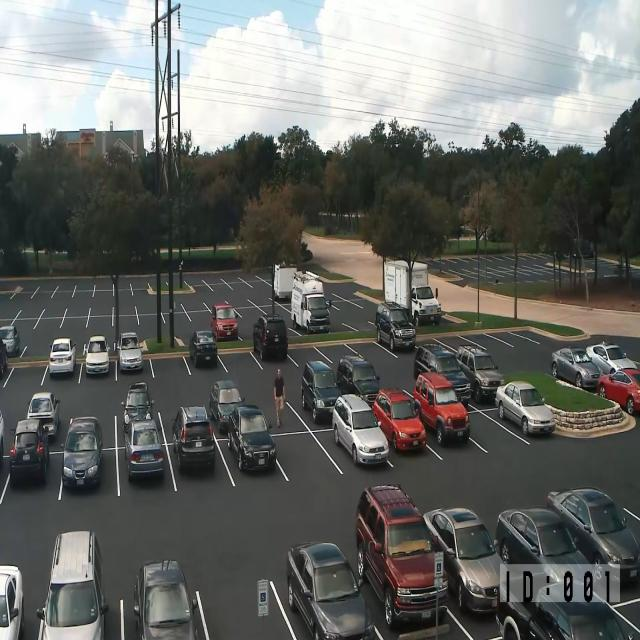space-empty: (198, 564, 298, 640), (276, 429, 331, 484), (239, 386, 293, 434), (158, 394, 210, 439), (468, 408, 515, 456), (67, 407, 117, 449), (221, 339, 259, 380), (342, 363, 382, 401), (152, 344, 189, 383), (287, 338, 326, 374), (6, 357, 46, 390), (618, 593, 639, 637), (354, 342, 393, 365), (323, 300, 346, 336), (263, 303, 291, 326), (112, 290, 136, 316), (101, 326, 124, 353), (316, 342, 356, 357), (90, 291, 113, 315), (135, 291, 159, 314), (236, 302, 262, 323), (68, 293, 91, 314), (36, 316, 63, 333), (63, 314, 88, 331), (87, 317, 116, 329), (183, 297, 206, 312), (188, 312, 212, 326), (137, 314, 164, 326), (17, 307, 40, 319), (94, 277, 113, 291), (15, 318, 34, 332), (74, 278, 94, 291), (113, 315, 139, 325), (0, 305, 17, 320), (38, 278, 56, 292), (18, 279, 37, 292), (190, 281, 210, 293), (56, 279, 74, 292), (228, 280, 248, 291), (210, 283, 232, 293), (0, 279, 16, 292), (249, 283, 274, 291), (44, 307, 66, 316), (0, 292, 15, 304), (56, 290, 73, 300), (114, 279, 131, 289), (14, 290, 32, 299), (114, 289, 134, 297), (130, 281, 150, 288), (35, 292, 52, 300)
space-occupied: (357, 515, 451, 639), (555, 503, 639, 606), (287, 544, 368, 639), (121, 576, 208, 639), (40, 578, 124, 639), (519, 600, 639, 640), (518, 511, 574, 584), (454, 530, 501, 616), (329, 413, 386, 477), (172, 439, 228, 497), (61, 448, 118, 504), (422, 401, 475, 461), (119, 444, 174, 501), (6, 450, 61, 505), (226, 435, 280, 491), (501, 394, 556, 446), (0, 571, 40, 639), (294, 376, 343, 428), (18, 398, 67, 449), (604, 358, 639, 423), (117, 396, 161, 446), (252, 327, 292, 374), (206, 387, 245, 434), (186, 333, 224, 380), (431, 340, 463, 392), (470, 346, 500, 400), (380, 324, 419, 362), (117, 342, 152, 383), (45, 352, 82, 388), (82, 352, 116, 388), (294, 302, 328, 338), (0, 321, 18, 352), (0, 351, 12, 396)
